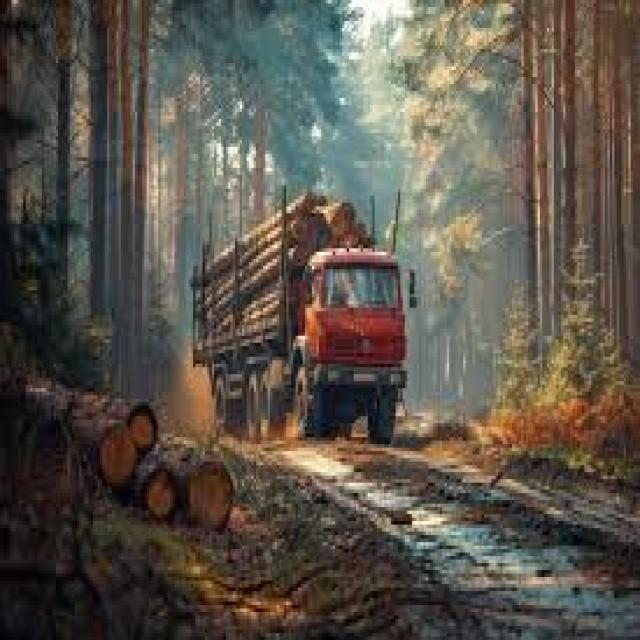Truck: (199, 199, 411, 453)
